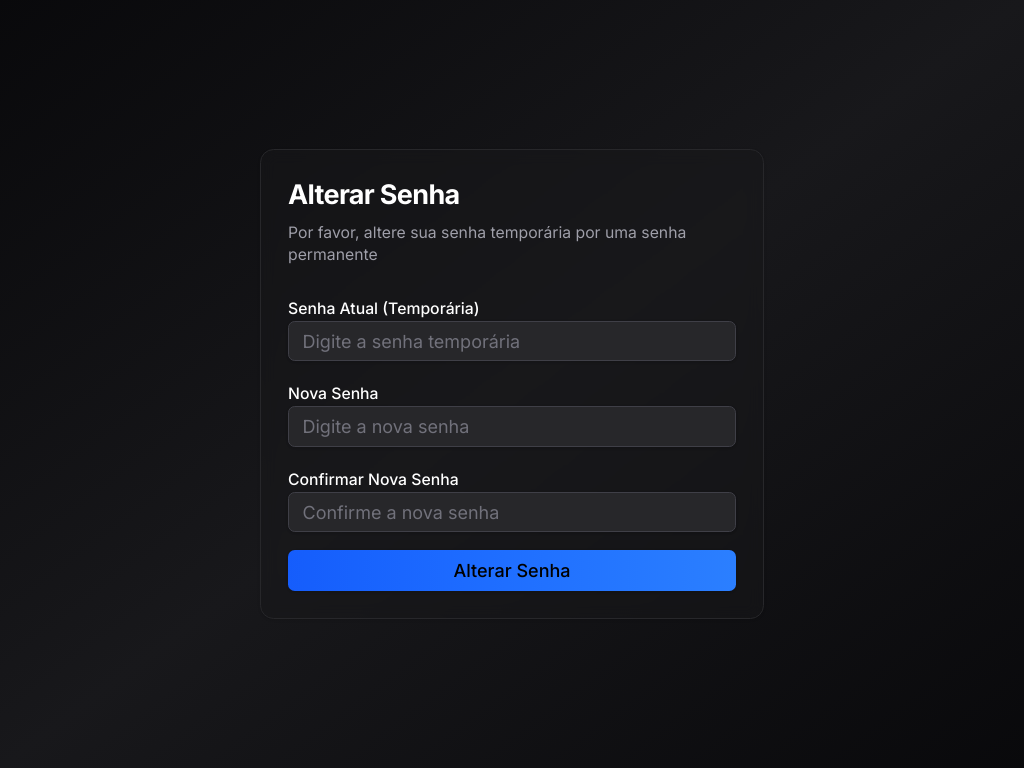
it: Change Password Page › Validation › should validate passwords mismatch
Step 1. Type "Teste@123" into the password field with test id "current-password-input" → (512, 341), box [288,321,736,362]
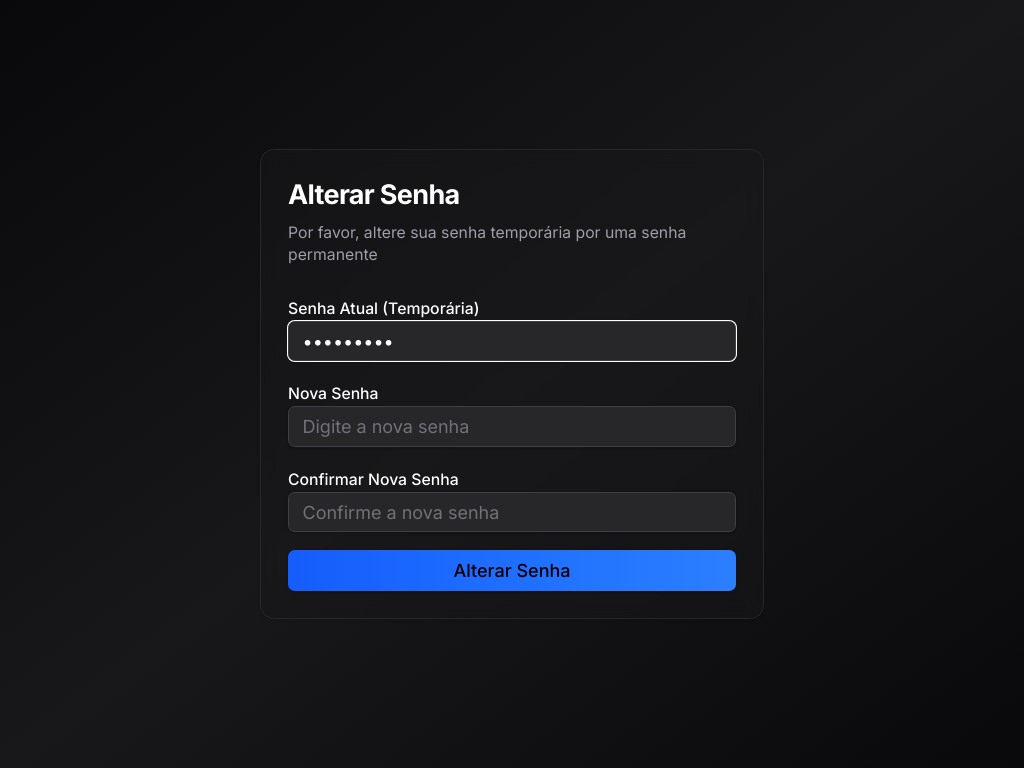
Step 2. Type "NewPassword@123" into the password field with test id "new-password-input" → (512, 427), box [288,406,736,447]
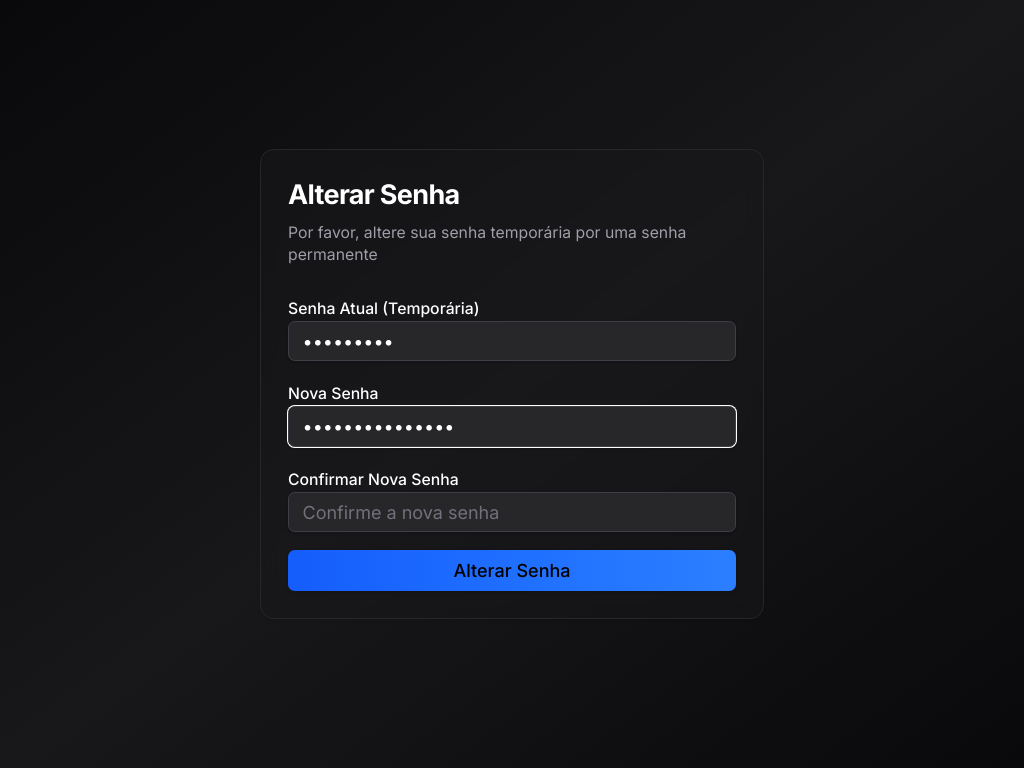
Step 3. Type "DifferentPassword@123" into the password field with test id "confirm-password-input" → (512, 512), box [288,492,736,532]
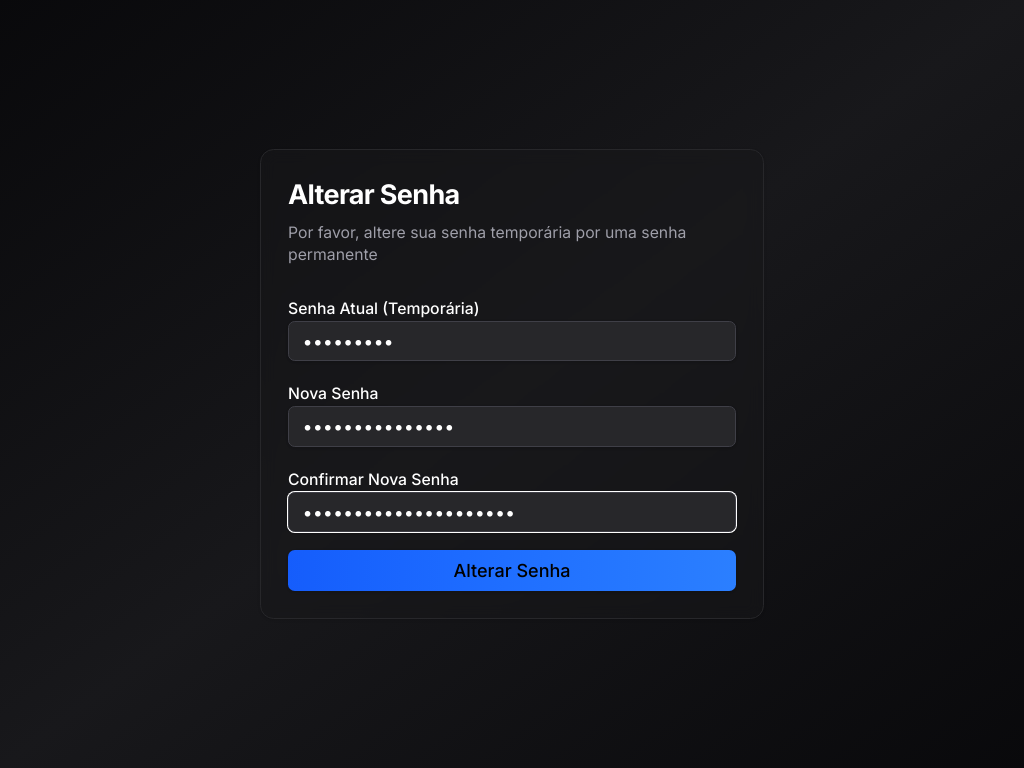
Step 4. Click the button with test id "change-password-submit" → (512, 571), box [288,550,736,591]
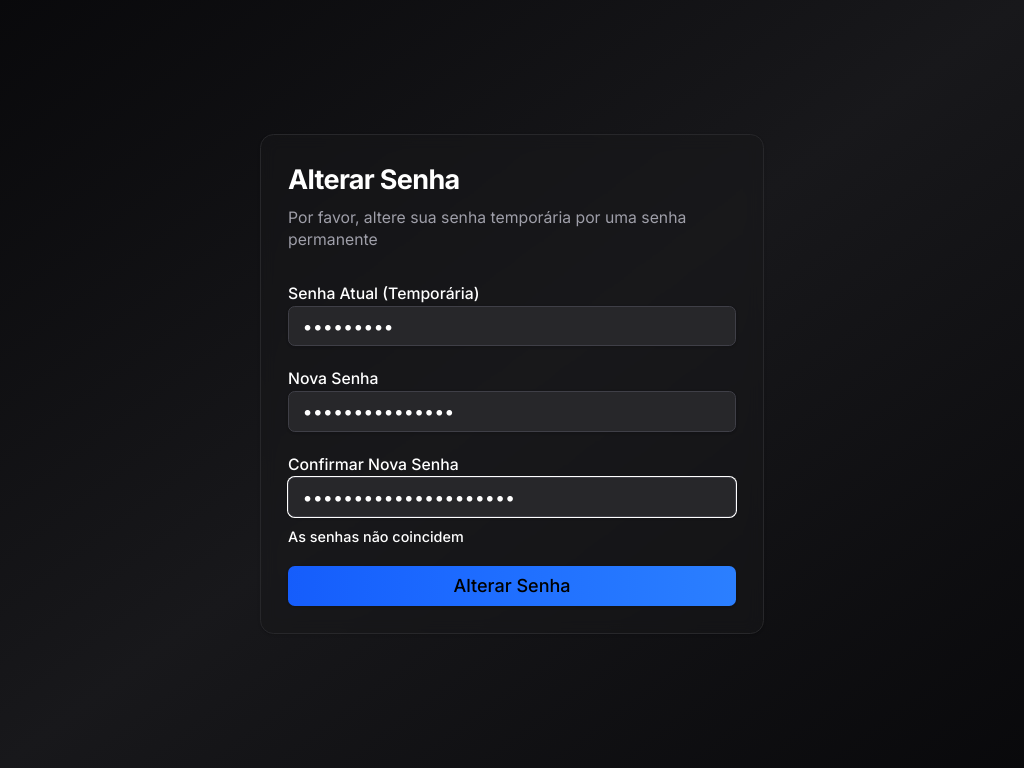
Result: the text "As senhas não coincidem" is shown at [288,528,464,545]
